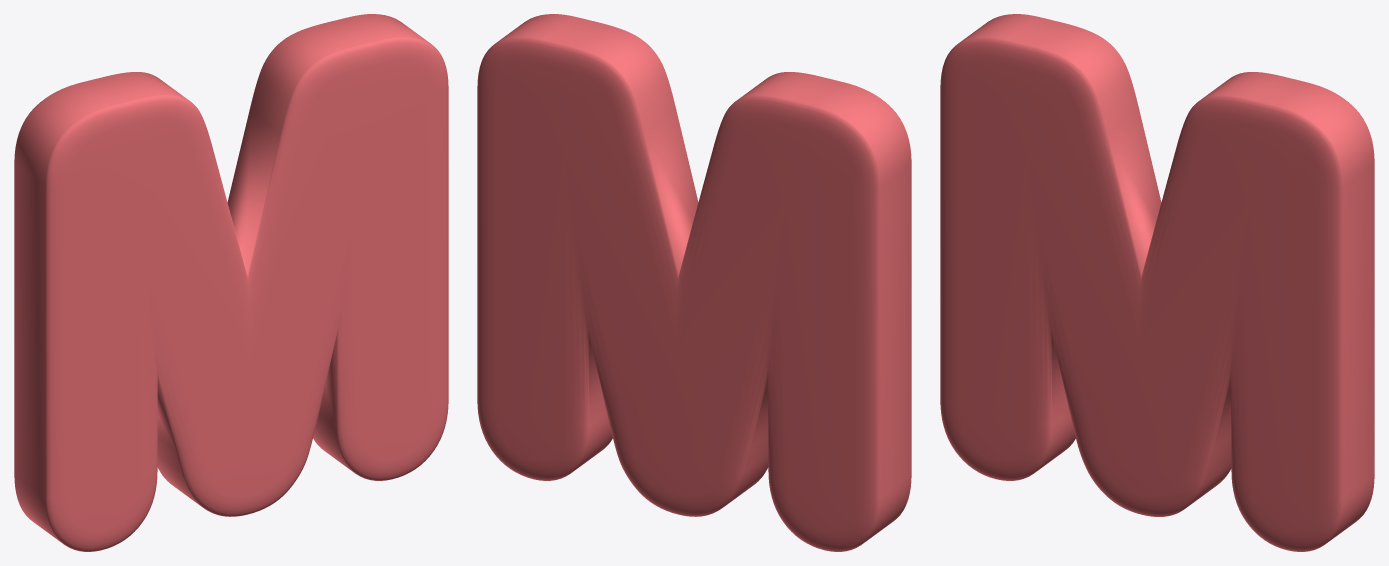
The model's file is RA_Letter_M.fbx.
3 views of the same model, side by side, from view 1: azimuth 30°, elevation 25°; view 2: azimuth 150°, elevation 25°; view 3: azimuth 330°, elevation 25° (orthographic).
Parts seen in each view (by area): view 1: RA_Letter_M; view 2: RA_Letter_M; view 3: RA_Letter_M.
Boxes of the visible parts, <box> form: RA_Letter_M: <box>14,14,448,551</box>; RA_Letter_M: <box>477,14,911,551</box>; RA_Letter_M: <box>940,14,1374,551</box>.
Bounding box in the file's own units: 172 × 180 × 28.
